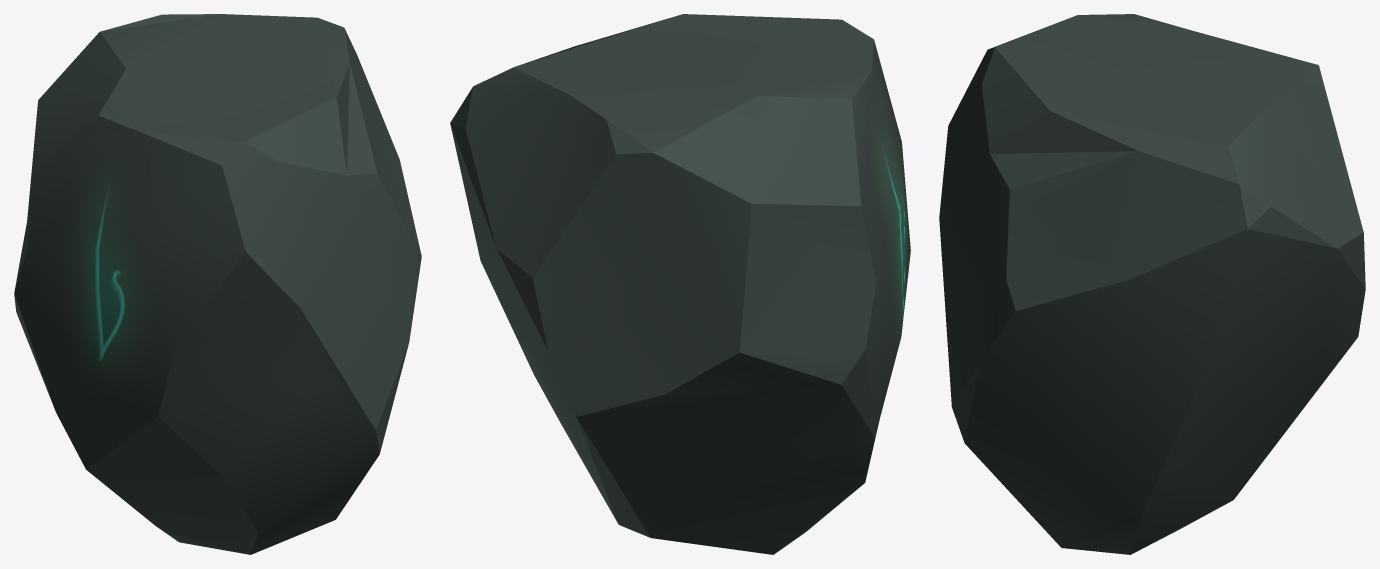
Rendered from Rock_Base_2.FBX.
The picture shows the model from 3 angles, left to right: view 1: azimuth 30°, elevation 25°; view 2: azimuth 150°, elevation 25°; view 3: azimuth 270°, elevation 25°; orthographic projection. The views are drawn at different scales.
Visible parts, largest first — view 1: GeoSphere002; view 2: GeoSphere002; view 3: GeoSphere002.
Boxes of the visible parts, <box> form: GeoSphere002: <box>14,14,421,554</box>; GeoSphere002: <box>450,14,910,554</box>; GeoSphere002: <box>939,14,1365,554</box>.
Bounding box in the file's own units: 49.88 × 59.87 × 49.9.
